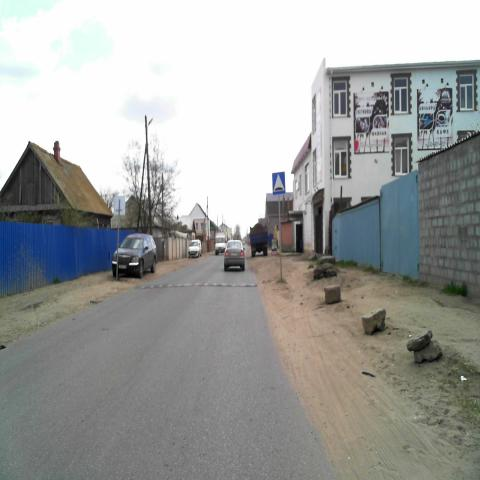5_20: (272, 172, 286, 195)
